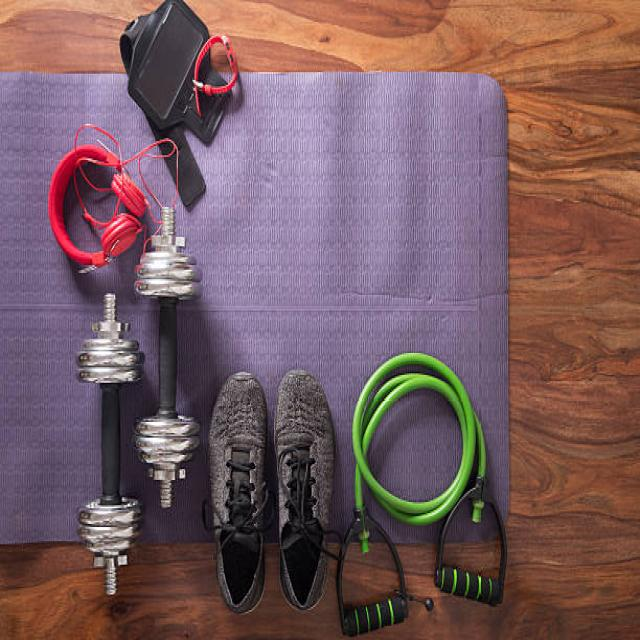Headphone: (46, 126, 180, 270)
